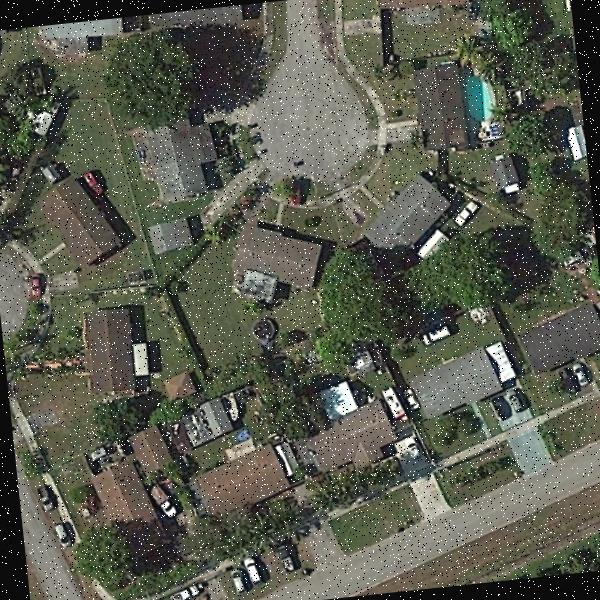Buildings: (414, 51, 471, 160), (366, 173, 451, 246), (196, 445, 284, 514), (45, 180, 116, 264), (237, 223, 314, 300), (416, 351, 496, 413), (522, 304, 600, 363), (314, 400, 387, 459), (84, 313, 137, 386), (97, 462, 147, 524)
